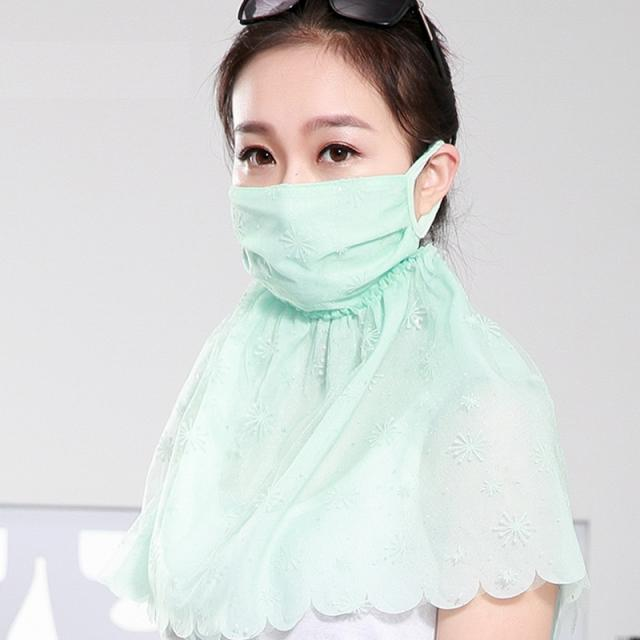mask: (231, 42, 411, 299)
